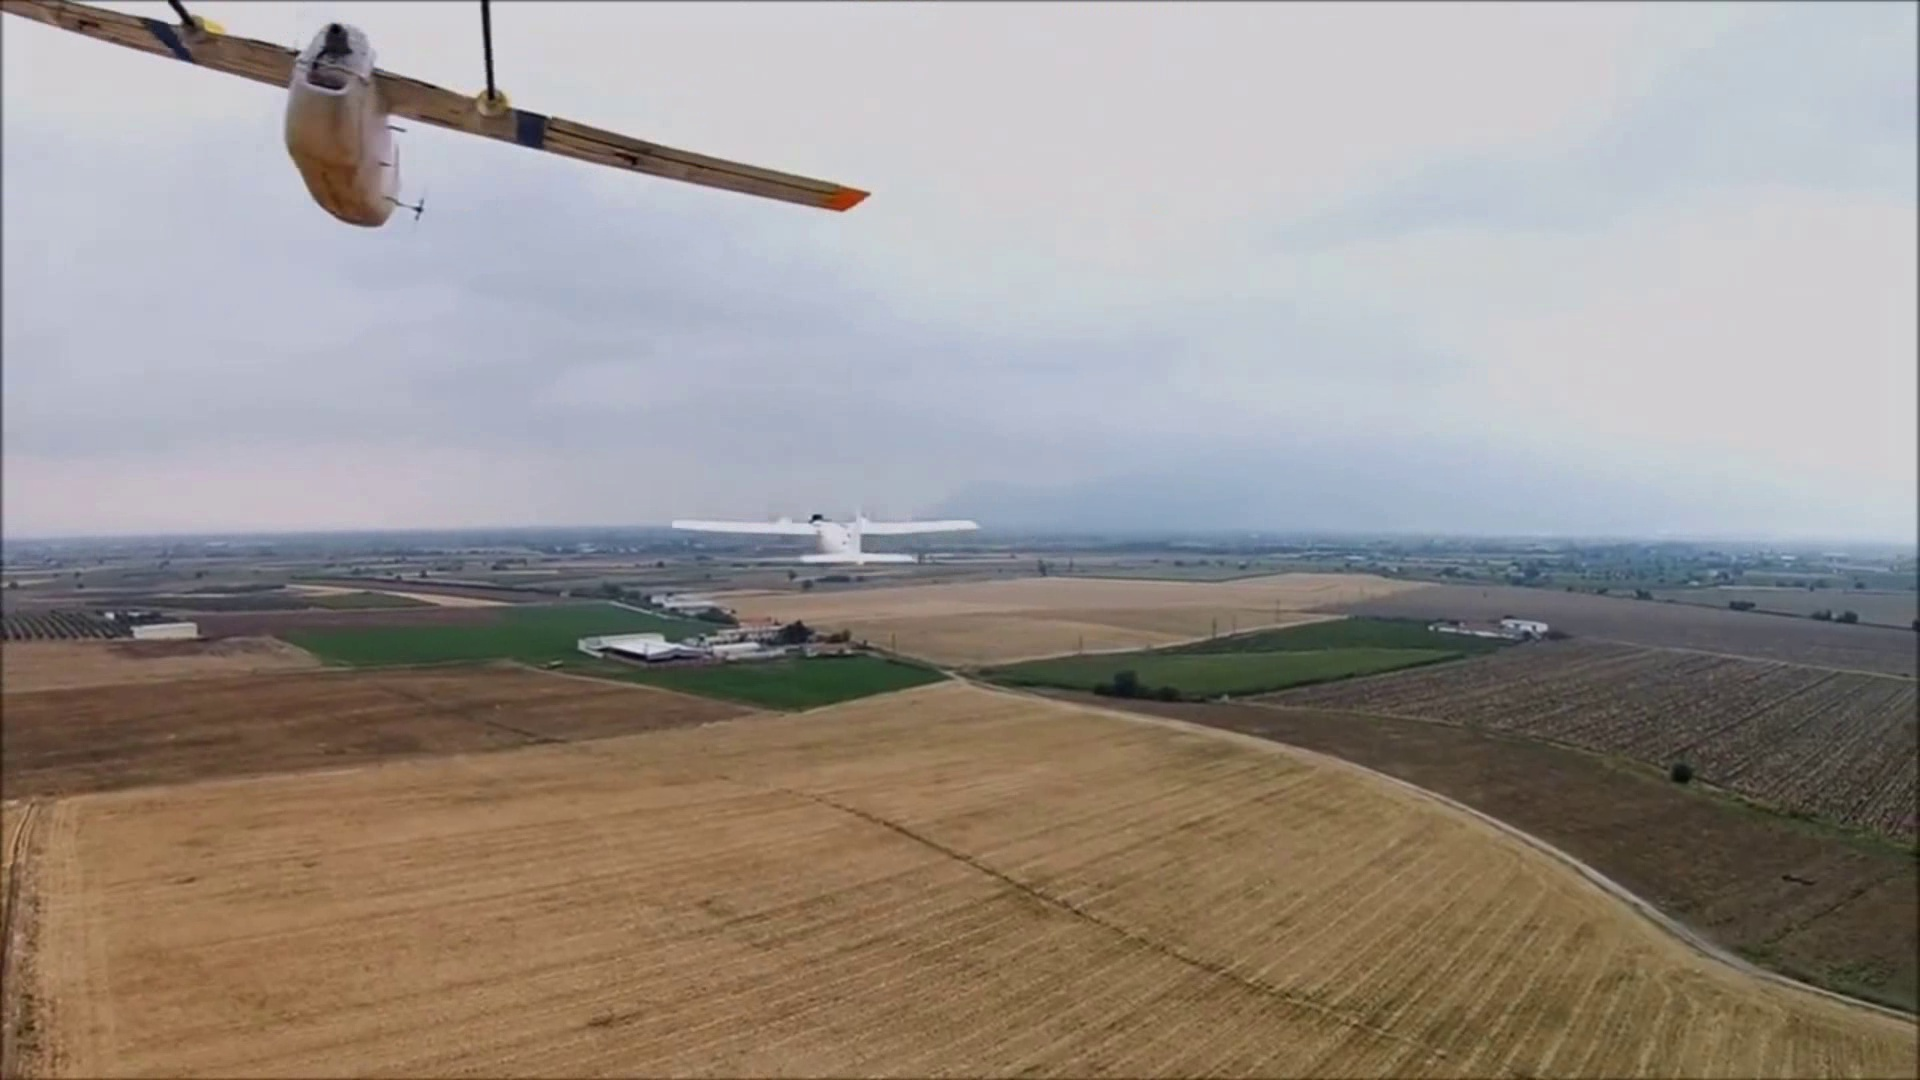airplane: (4, 4, 876, 231)
